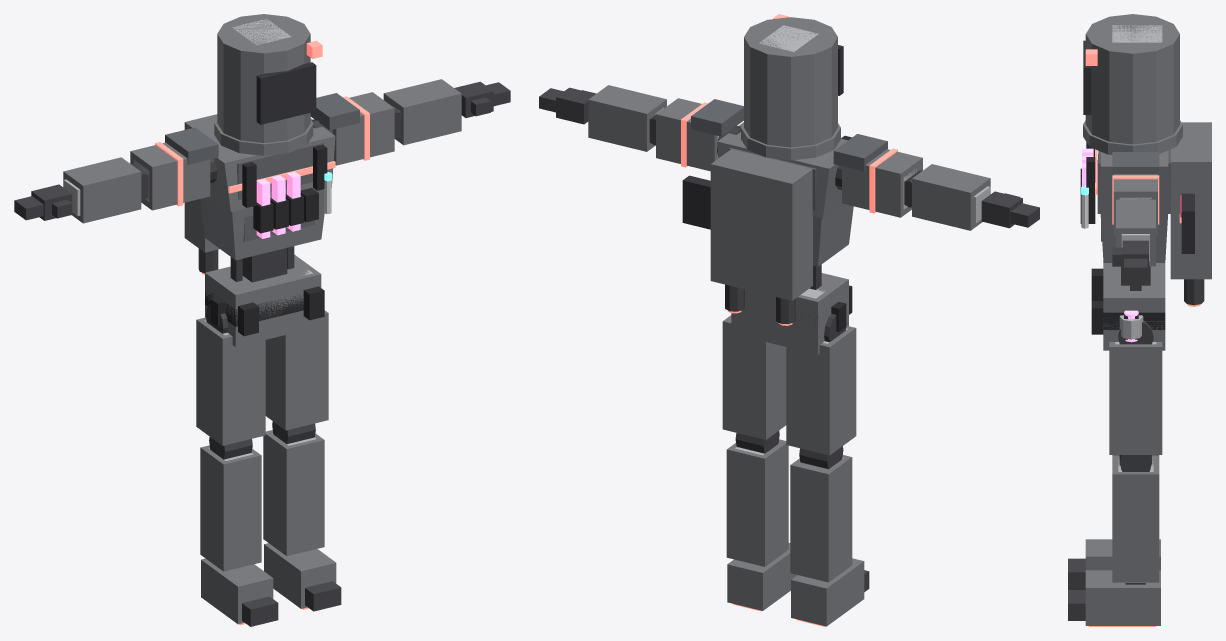
File: char_F2_eva_boarder.glb
3 views of the same model, side by side, from view 1: azimuth 30°, elevation 25°; view 2: azimuth 150°, elevation 25°; view 3: azimuth 270°, elevation 25° (orthographic).
Parts seen in each view (by area): view 1: Head_mesh, UpperChest_mesh, RightUpperLeg_mesh, RightLowerLeg_mesh, LeftLowerLeg_mesh, Hips_mesh, LeftUpperLeg_mesh, RightUpperArm_mesh, LeftUpperArm_mesh, RightLowerArm_mesh, Chest_mesh, LeftLowerArm_mesh (+7 smaller); view 2: UpperChest_mesh, Head_mesh, RightUpperLeg_mesh, RightLowerLeg_mesh, LeftLowerLeg_mesh, LeftUpperLeg_mesh, Hips_mesh, RightUpperArm_mesh, LeftUpperArm_mesh, RightLowerArm_mesh, LeftLowerArm_mesh, RightFoot_mesh (+5 smaller); view 3: Head_mesh, UpperChest_mesh, LeftUpperLeg_mesh, LeftLowerLeg_mesh, Hips_mesh, LeftFoot_mesh, LeftUpperArm_mesh, LeftLowerArm_mesh, LeftHand_mesh, Chest_mesh, RightFoot_mesh, Slot_ChargeSlot_1 (+5 smaller).
Boxes of the visible parts, x1,y1,x2,y2 form: Head_mesh: [214, 14, 322, 155]; UpperChest_mesh: [184, 114, 335, 274]; RightUpperLeg_mesh: [196, 304, 265, 445]; RightLowerLeg_mesh: [200, 437, 261, 571]; LeftLowerLeg_mesh: [263, 421, 324, 555]; Hips_mesh: [205, 254, 324, 346]; LeftUpperLeg_mesh: [265, 310, 328, 430]; RightUpperArm_mesh: [130, 127, 218, 210]; LeftUpperArm_mesh: [310, 92, 394, 165]; RightLowerArm_mesh: [63, 157, 148, 223]; Chest_mesh: [200, 189, 324, 260]; LeftLowerArm_mesh: [383, 79, 461, 145]; UpperChest_mesh: [710, 122, 851, 325]; Head_mesh: [741, 14, 843, 160]; RightUpperLeg_mesh: [786, 313, 856, 455]; RightLowerLeg_mesh: [790, 446, 852, 582]; LeftLowerLeg_mesh: [726, 430, 788, 566]; LeftUpperLeg_mesh: [722, 315, 786, 439]; Hips_mesh: [731, 273, 852, 354]; RightUpperArm_mesh: [833, 134, 922, 217]; LeftUpperArm_mesh: [656, 98, 743, 171]; RightLowerArm_mesh: [904, 164, 990, 230]; LeftLowerArm_mesh: [588, 85, 666, 151]; RightFoot_mesh: [791, 558, 864, 626]; Head_mesh: [1083, 14, 1182, 154]; UpperChest_mesh: [1080, 122, 1211, 306]; LeftUpperLeg_mesh: [1109, 320, 1162, 454]; LeftLowerLeg_mesh: [1112, 455, 1159, 582]; Hips_mesh: [1091, 263, 1165, 350]; LeftFoot_mesh: [1085, 570, 1160, 626]; LeftUpperArm_mesh: [1112, 152, 1159, 235]; LeftLowerArm_mesh: [1116, 199, 1155, 266]; LeftHand_mesh: [1112, 240, 1148, 279]; Chest_mesh: [1100, 214, 1167, 262]; RightFoot_mesh: [1085, 539, 1160, 570]; Slot_ChargeSlot_1: [1179, 193, 1194, 253].
Size of the model in its own units: 1.69 by 1.88 by 0.4294.
